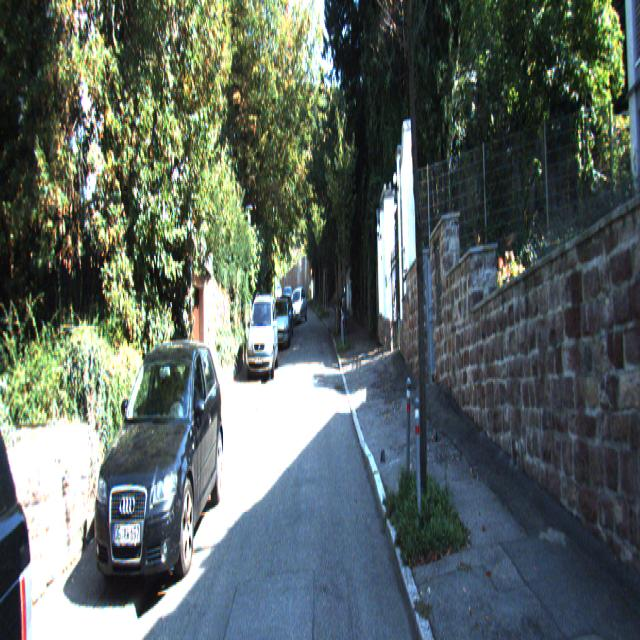Car: (87, 334, 225, 610), (247, 291, 279, 383), (272, 294, 291, 349), (288, 288, 308, 328)
